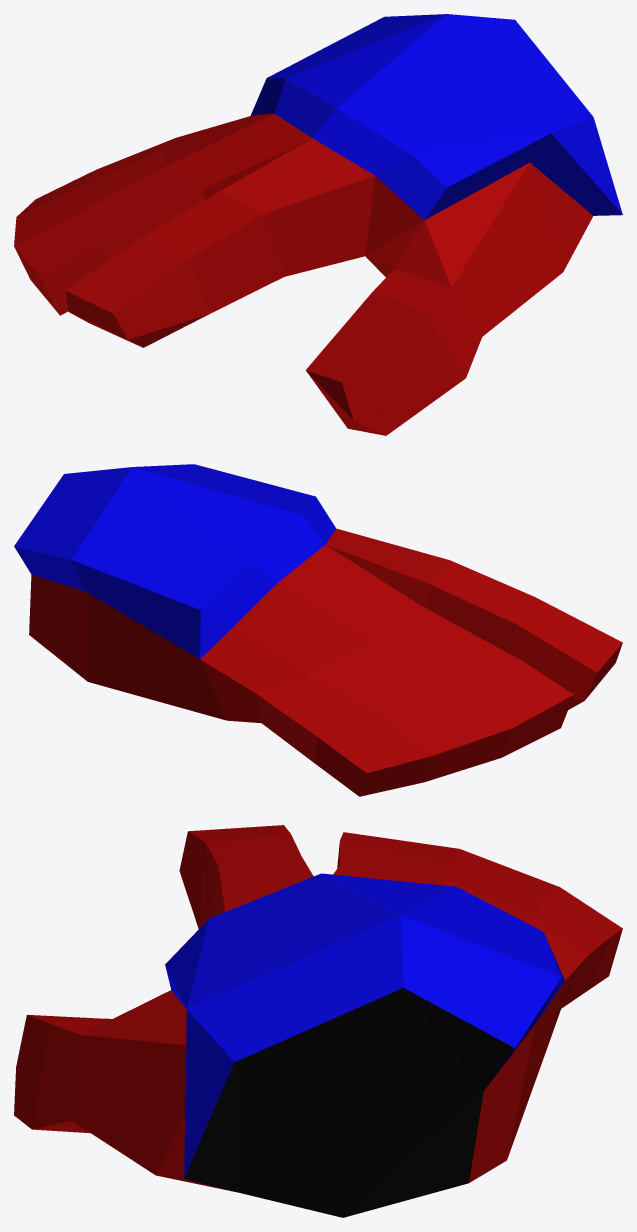
File: Chr_HandRight_Male_Static_05.fbx
3 renders of one model, top to bottom at view 1: azimuth 30°, elevation 25°; view 2: azimuth 150°, elevation 25°; view 3: azimuth 270°, elevation 25°, orthographic. The views are drawn at different scales.
Visible parts, largest first — view 1: Chr_HandRight_Male_05; view 2: Chr_HandRight_Male_05; view 3: Chr_HandRight_Male_05.
Boxes of the visible parts, x1,y1,x2,y2 form: Chr_HandRight_Male_05: (14,14,622,435); Chr_HandRight_Male_05: (14,464,622,796); Chr_HandRight_Male_05: (14,825,622,1217).
Size of the model in its own units: 23.71 by 12.02 by 18.8.
